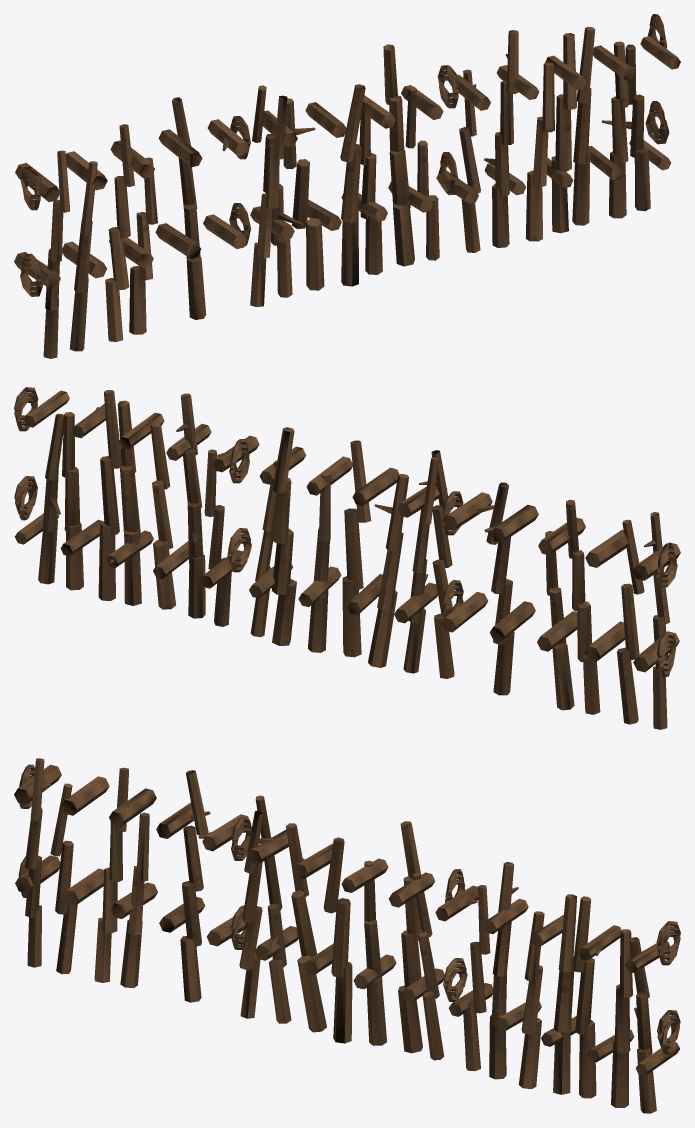
File: picket.glb
3 renders of one model, top to bottom at view 1: azimuth 30°, elevation 25°; view 2: azimuth 150°, elevation 25°; view 3: azimuth 330°, elevation 25°, orthographic. The views are drawn at different scales.
Parts seen in each view (by area): view 1: picket; view 2: picket; view 3: picket.
Part boxes in pixels (x1,y1,x2,y2): picket: (14, 14, 680, 358); picket: (14, 387, 680, 729); picket: (14, 758, 680, 1113).
Size of the model in its own units: 4.06 by 1.32 by 0.5187.
1 material, 1 textured.
